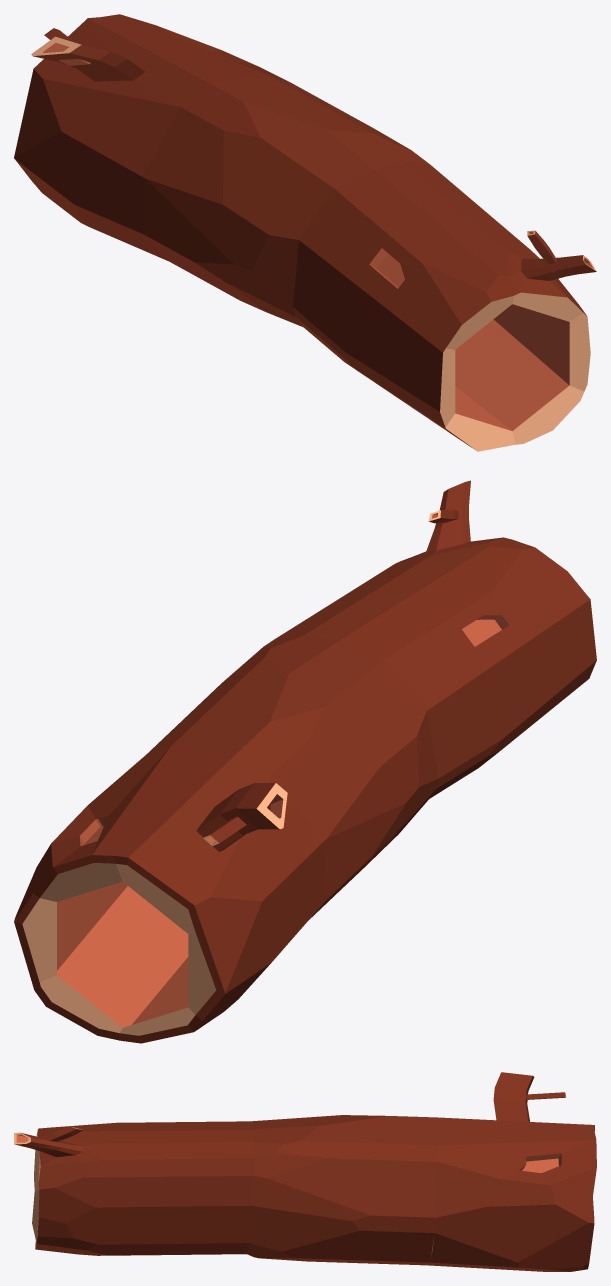
The model's file is Stump 1.fbx.
3 renders of one model, top to bottom at view 1: azimuth 30°, elevation 25°; view 2: azimuth 150°, elevation 25°; view 3: azimuth 270°, elevation 25°, orthographic. The views are drawn at different scales.
Parts seen in each view (by area): view 1: Stump 1; view 2: Stump 1; view 3: Stump 1.
Part boxes in pixels (x1,y1,x2,y2): Stump 1: (14, 14, 596, 451); Stump 1: (14, 480, 596, 1043); Stump 1: (14, 1072, 596, 1271).
Bounding box in the file's own units: 206 × 190 × 629.
